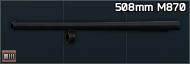M870 12ga 508mm barrel: (0, 0, 190, 64)
